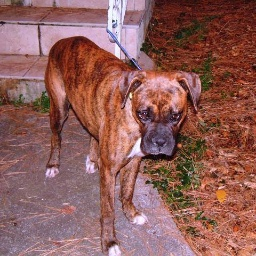dog: (41, 30, 204, 256)
